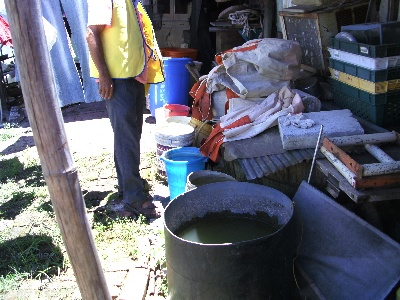bucket: (162, 180, 296, 300), (149, 55, 195, 117), (161, 146, 208, 200)
plastic_bag: (191, 37, 305, 100)
